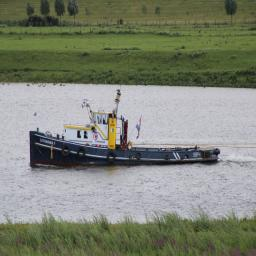tugboat: (29, 90, 224, 177)
